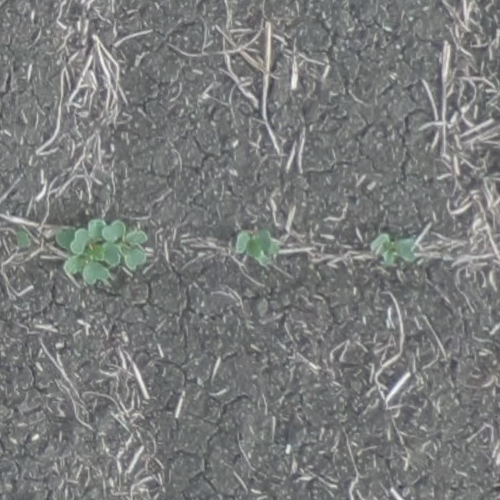clumped: (62, 219, 156, 282)
isolated: (371, 232, 419, 262), (236, 231, 284, 260)
